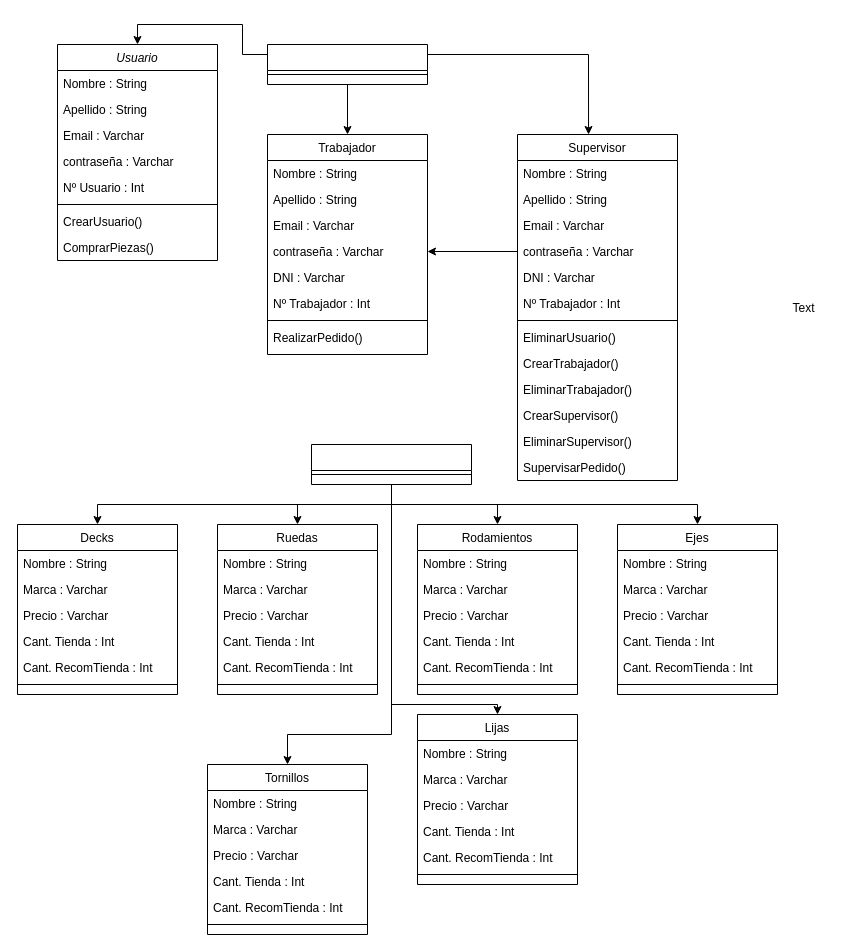
This 841x952 diagram has some shape labels left out. The centre of each missing label's shape, as x and y in pixels:
Piezas: pixel 391 464
Registros: pixel 347 64
